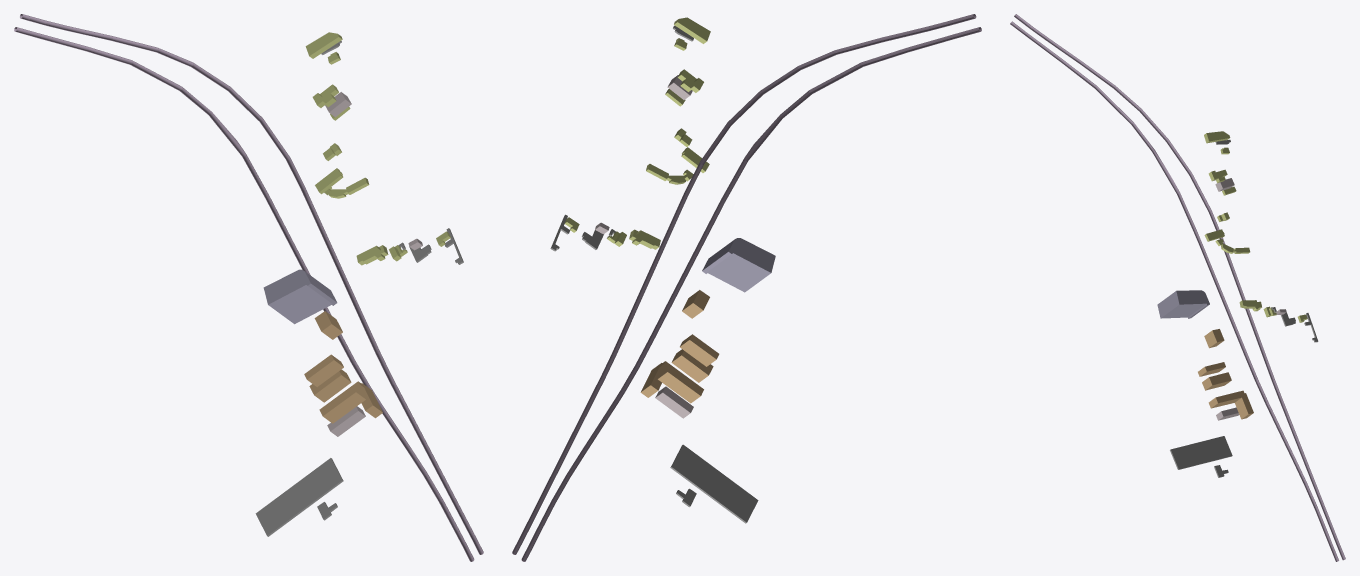
The picture shows the model from 3 angles, left to right: view 1: azimuth 30°, elevation 25°; view 2: azimuth 150°, elevation 25°; view 3: azimuth 330°, elevation 25°; orthographic projection. The views are drawn at different scales.
Parts seen in each view (by area): view 1: 0_1_0_2_0; view 2: 0_1_0_2_0; view 3: 0_1_0_2_0.
Part boxes in pixels (left/top/right/bottom): 0_1_0_2_0: left=14, top=14, right=483, bottom=561; 0_1_0_2_0: left=512, top=14, right=981, bottom=561; 0_1_0_2_0: left=1010, top=14, right=1345, bottom=561.
Size of the model in its own units: 643 by 860 by 93.3.
